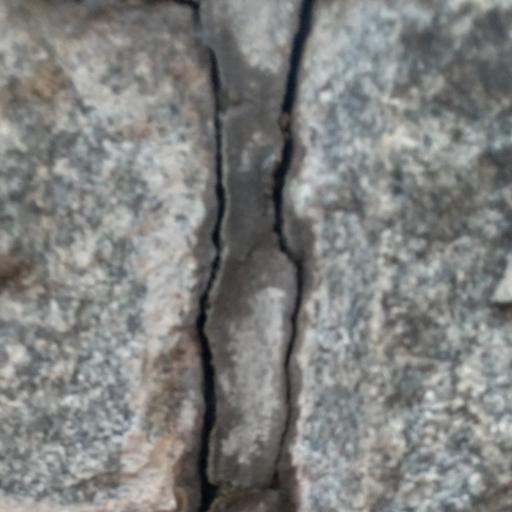major_crack: (154, 0, 344, 512)
